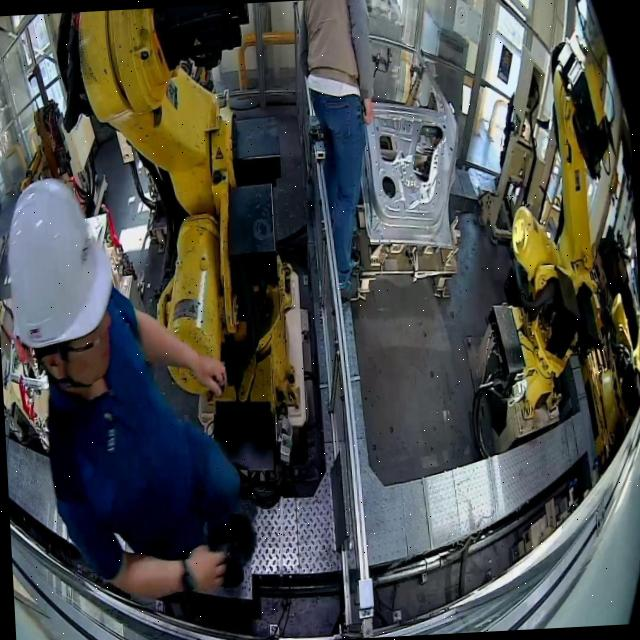Person: (0, 167, 256, 608), (296, 0, 387, 302)
